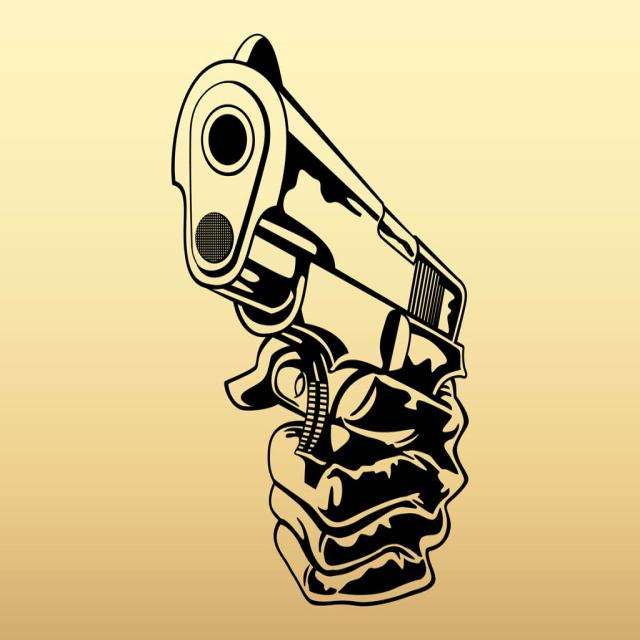gun: (170, 10, 471, 604)
